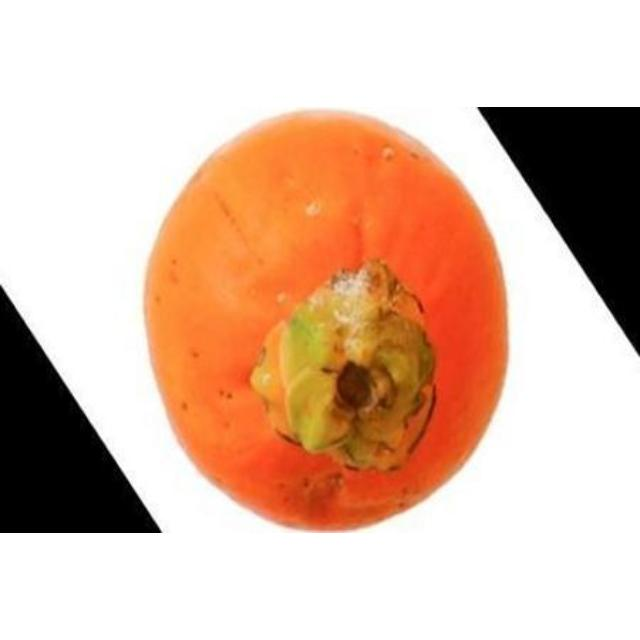good: (142, 110, 511, 532)
